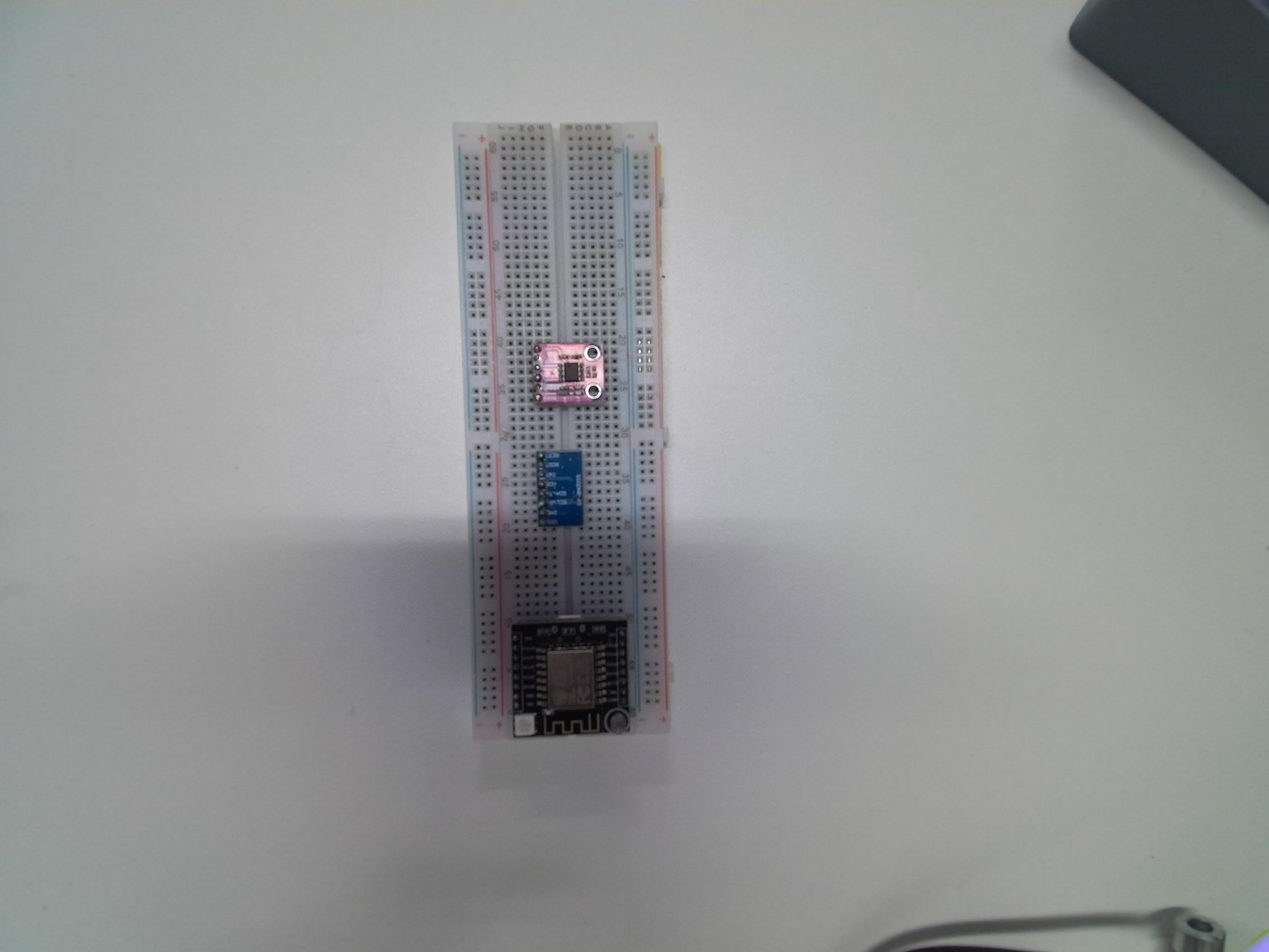base: (450, 118, 671, 745)
blue-board: (533, 448, 586, 530)
esp: (505, 616, 634, 742)
purple-board: (530, 342, 605, 405)
